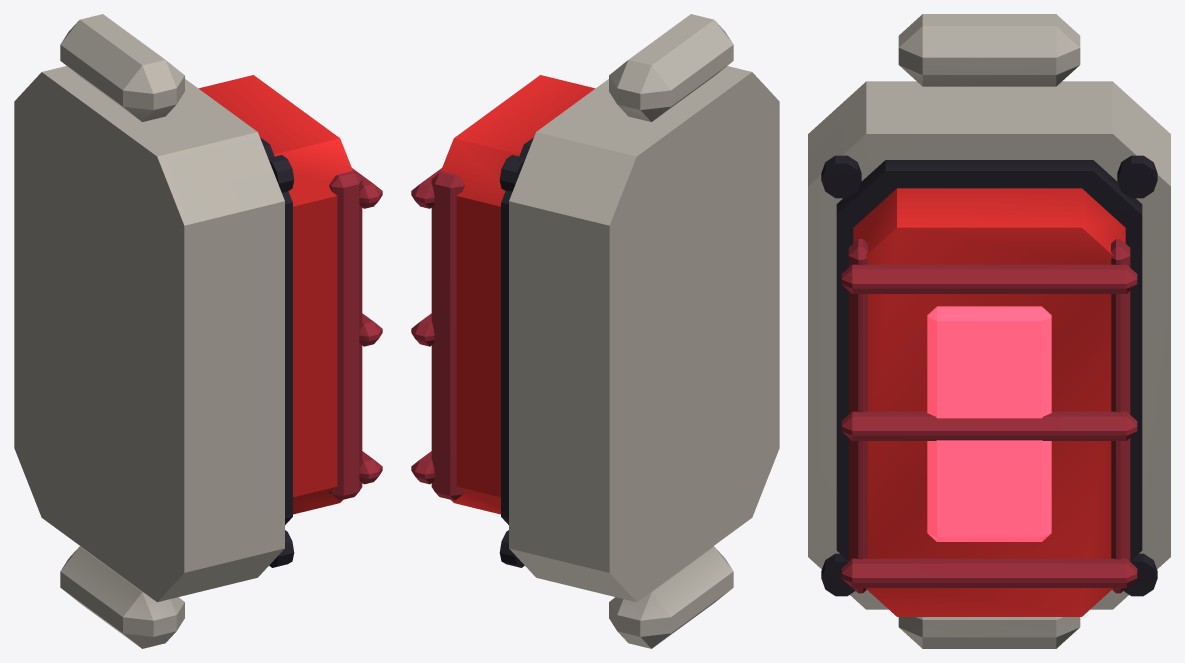
3 renders of one model, left to right at view 1: azimuth 30°, elevation 25°; view 2: azimuth 150°, elevation 25°; view 3: azimuth 270°, elevation 25°, orthographic. The views are drawn at different scales.
Parts seen in each view (by area): view 1: body_pal_silver, body_pal_sirenRed, body_pal_redDark, body_pal_uiDark; view 2: body_pal_silver, body_pal_sirenRed, body_pal_redDark, body_pal_uiDark; view 3: body_pal_silver, body_pal_sirenRed, body_pal_redDark, body_emi_redDark, body_pal_uiDark.
Part boxes in pixels (x1,y1,x2,y2): body_pal_silver: (14, 14, 284, 648); body_pal_sirenRed: (198, 75, 353, 514); body_pal_redDark: (329, 168, 382, 500); body_pal_uiDark: (260, 137, 294, 567); body_pal_silver: (509, 14, 779, 648); body_pal_sirenRed: (440, 75, 595, 514); body_pal_redDark: (411, 168, 464, 500); body_pal_uiDark: (499, 137, 533, 567); body_pal_silver: (808, 14, 1170, 648); body_pal_sirenRed: (853, 188, 1125, 616); body_pal_redDark: (841, 239, 1137, 593); body_emi_redDark: (927, 306, 1051, 541); body_pal_uiDark: (821, 155, 1157, 596).
Bounding box in the file's own units: 0.2925 × 0.72 × 0.38.
